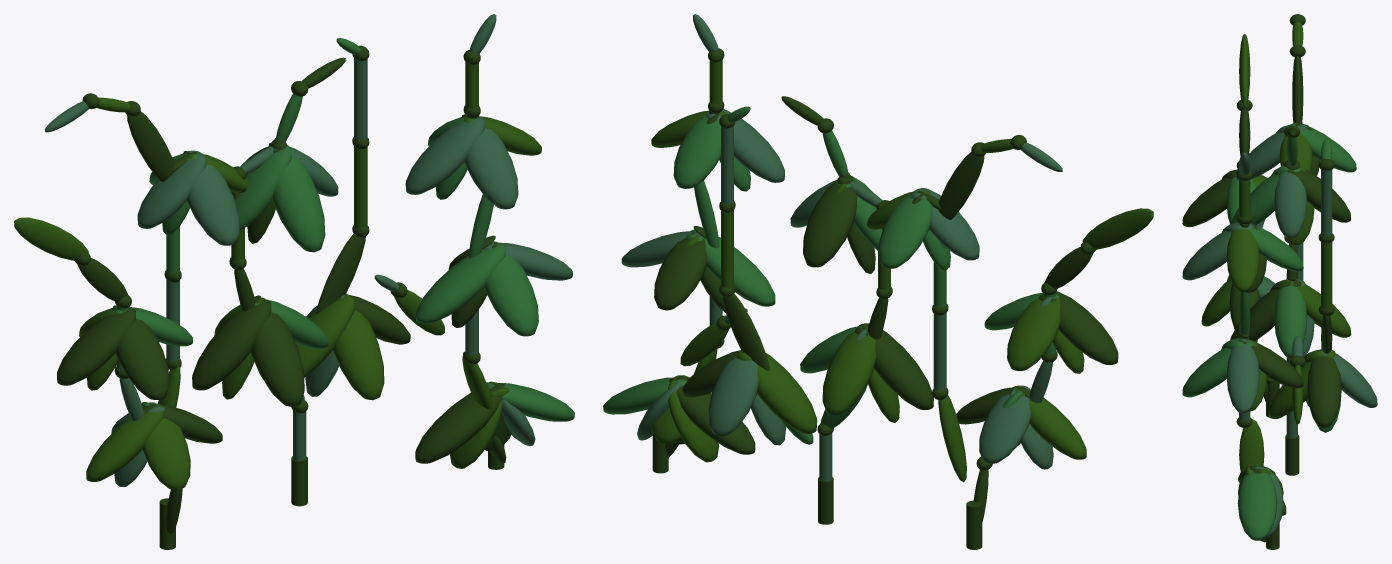
Rendered from CMU3DRMCBushf2.glb.
3 views of the same model, side by side, from view 1: azimuth 30°, elevation 25°; view 2: azimuth 150°, elevation 25°; view 3: azimuth 270°, elevation 25° (orthographic). The views are drawn at different scales.
Parts seen in each view (by area): view 1: crown 4 frond 0, crown 4 frond 4, crown 3 frond 4, crown 7 frond 0, crown 5 frond 4, crown 8 frond 0, crown 6 frond 0, crown 0 frond 0, crown 7 frond 4, crown 6 frond 4, crown 2 frond 4, crown 0 frond 4 (+31 smaller); view 2: crown 3 frond 5, crown 4 frond 5, crown 5 frond 5, crown 2 frond 5, crown 0 frond 5, crown 5 frond 0, crown 7 frond 5, crown 4 frond 0, crown 1 frond 5, crown 6 frond 5, crown 0 frond 0, crown 6 frond 0 (+33 smaller); view 3: crown 8 frond 3, crown 5 frond 3, crown 7 frond 3, crown 4 frond 3, crown 3 frond 3, crown 6 frond 3, crown 7 frond 4, crown 6 frond 4, crown 0 frond 4, crown 6 frond 5, crown 7 frond 5, crown 5 frond 5 (+31 smaller).
Part boxes in pixels (<box>): crown 4 frond 0: <box>192,299,271,390</box>; crown 4 frond 4: <box>250,297,304,406</box>; crown 3 frond 4: <box>268,145,325,252</box>; crown 7 frond 0: <box>415,244,505,324</box>; crown 5 frond 4: <box>333,293,384,400</box>; crown 8 frond 0: <box>415,383,504,463</box>; crown 6 frond 0: <box>405,117,484,194</box>; crown 0 frond 0: <box>57,308,135,385</box>; crown 7 frond 4: <box>484,241,538,336</box>; crown 6 frond 4: <box>461,117,518,209</box>; crown 2 frond 4: <box>183,150,239,245</box>; crown 0 frond 4: <box>112,307,169,399</box>; crown 3 frond 5: <box>803,178,857,267</box>; crown 4 frond 5: <box>822,326,875,415</box>; crown 5 frond 5: <box>708,350,758,436</box>; crown 2 frond 5: <box>878,189,932,268</box>; crown 0 frond 5: <box>1007,293,1060,370</box>; crown 5 frond 0: <box>757,353,817,433</box>; crown 7 frond 5: <box>654,232,707,310</box>; crown 4 frond 0: <box>859,323,933,409</box>; crown 1 frond 5: <box>979,385,1031,463</box>; crown 6 frond 5: <box>673,110,724,188</box>; crown 0 frond 0: <box>1056,291,1118,364</box>; crown 6 frond 0: <box>722,109,784,182</box>; crown 8 frond 3: <box>1237,466,1277,540</box>; crown 5 frond 3: <box>1307,349,1341,427</box>; crown 7 frond 3: <box>1226,338,1259,413</box>; crown 4 frond 3: <box>1274,279,1307,357</box>; crown 3 frond 3: <box>1274,171,1307,238</box>; crown 6 frond 3: <box>1226,229,1259,291</box>; crown 7 frond 4: <box>1182,340,1253,397</box>; crown 6 frond 4: <box>1182,224,1253,280</box>; crown 0 frond 4: <box>1182,177,1231,227</box>; crown 6 frond 5: <box>1238,223,1303,271</box>; crown 7 frond 5: <box>1238,340,1303,388</box>; crown 5 frond 5: <box>1320,350,1377,407</box>.
Bounding box in the file's own units: 0.864 × 0.6833 × 0.3125.
